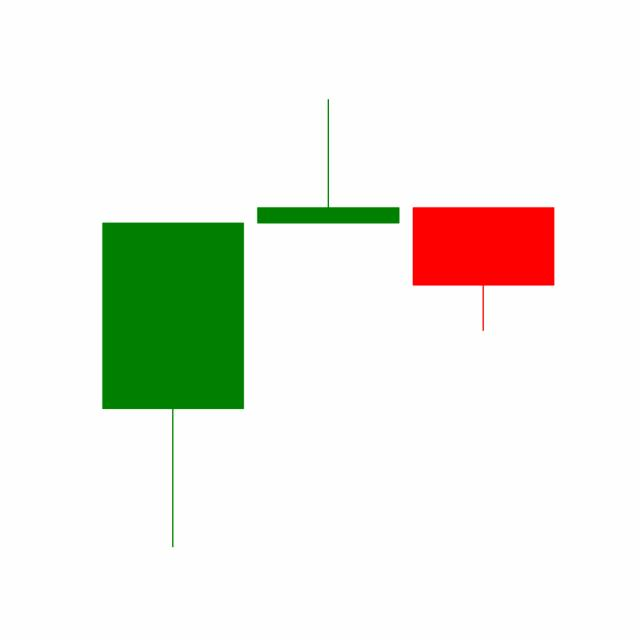Gravestone Doji: (249, 97, 406, 224)
